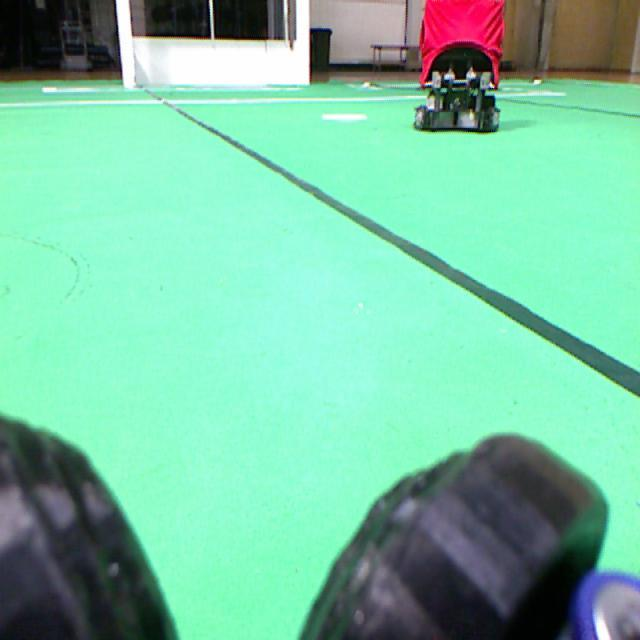goal: (116, 0, 135, 88), (294, 0, 309, 84)
